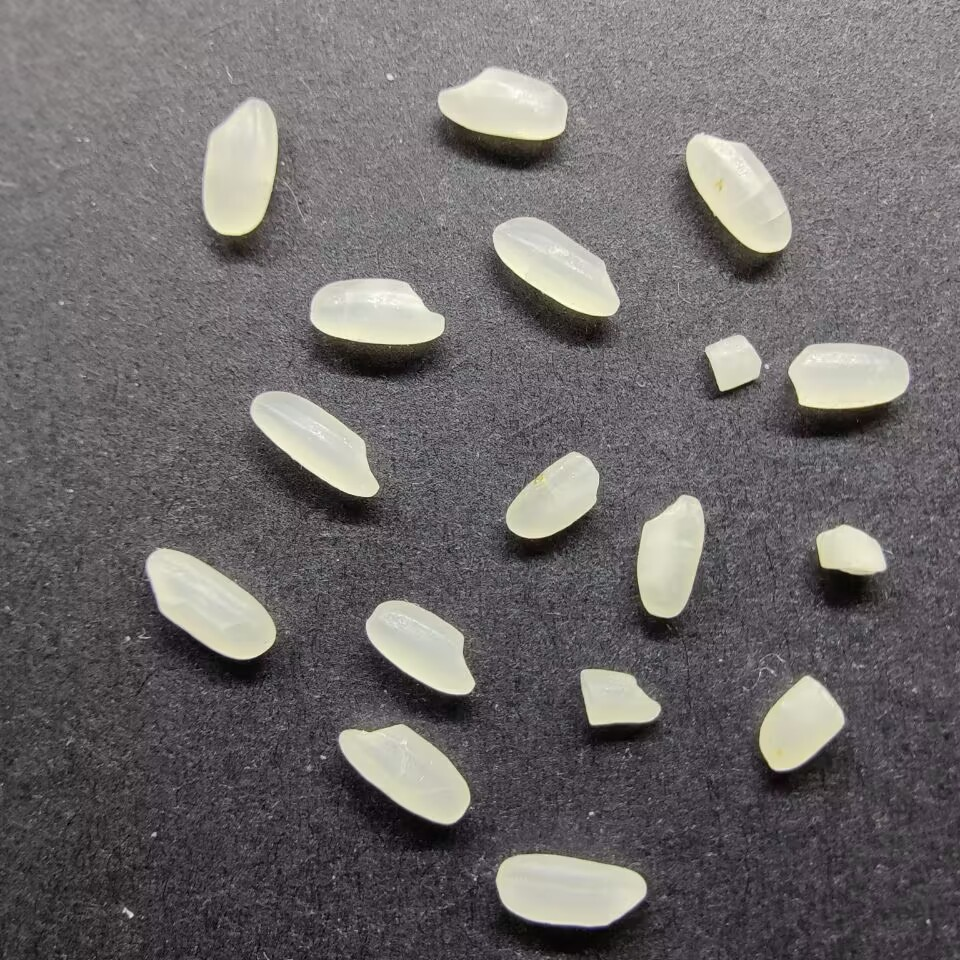broken: (504, 449, 603, 541), (755, 675, 847, 773), (577, 664, 663, 728), (813, 525, 889, 575), (702, 334, 763, 393)
rice: (142, 544, 278, 662), (247, 388, 382, 500), (333, 720, 471, 825), (488, 215, 622, 318), (685, 130, 793, 255), (495, 852, 649, 930), (198, 96, 279, 239), (364, 597, 477, 696), (436, 65, 570, 142), (308, 277, 447, 346), (635, 492, 707, 620), (786, 341, 911, 410)
